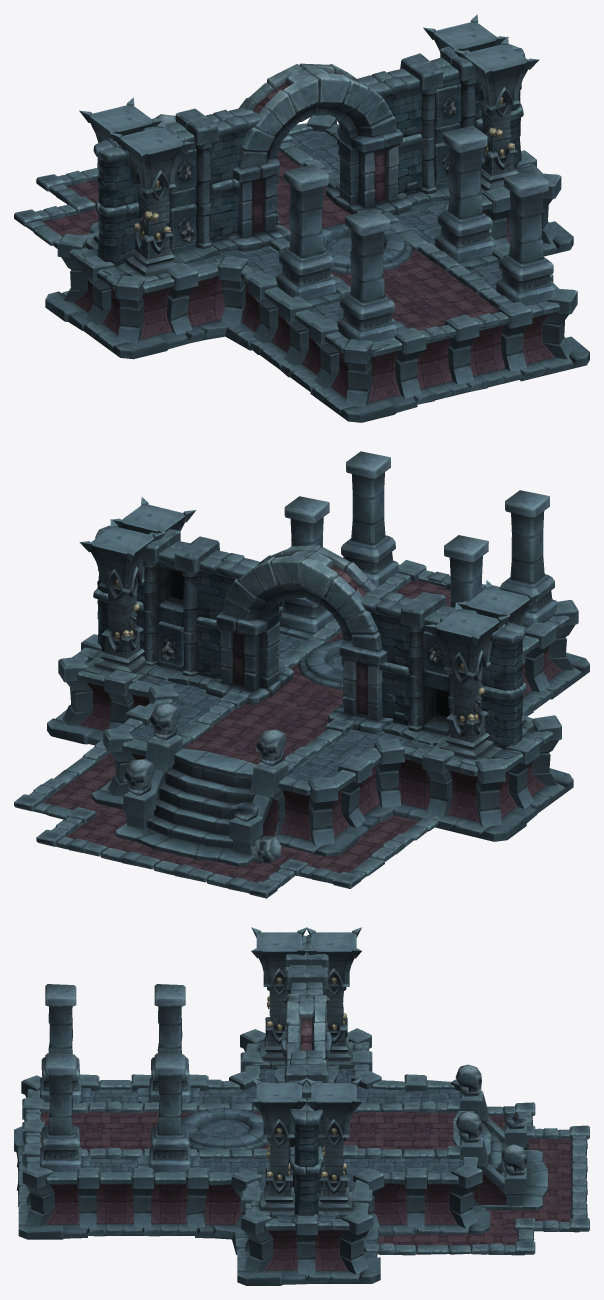
Rendered from dungeon.glb.
3 renders of one model, top to bottom at view 1: azimuth 30°, elevation 25°; view 2: azimuth 150°, elevation 25°; view 3: azimuth 270°, elevation 25°, orthographic. The views are drawn at different scales.
Visible parts, largest first — view 1: walls, floor1, floor2, floor_ring; view 2: walls, floor1, floor2, floor_ring; view 3: walls, floor1, floor2, floor_ring.
Boxes of the visible parts, left/top/right/bottom form: walls: left=14, top=14, right=589, bottom=422; floor1: left=42, top=149, right=497, bottom=330; floor2: left=84, top=130, right=502, bottom=323; floor_ring: left=322, top=223, right=412, bottom=274; walls: left=14, top=451, right=589, bottom=898; floor1: left=43, top=580, right=450, bottom=882; floor2: left=86, top=633, right=535, bottom=781; floor_ring: left=298, top=639, right=343, bottom=689; walls: left=14, top=927, right=589, bottom=1285; floor1: left=41, top=1111, right=571, bottom=1247; floor2: left=90, top=1069, right=462, bottom=1191; floor_ring: left=182, top=1107, right=269, bottom=1150.
Bounding box in the file's own units: 17.42 × 7.42 × 21.08.
3 materials, 3 textured.
